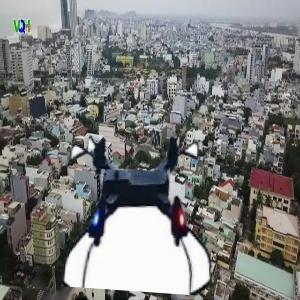drone: (56, 128, 221, 293)
